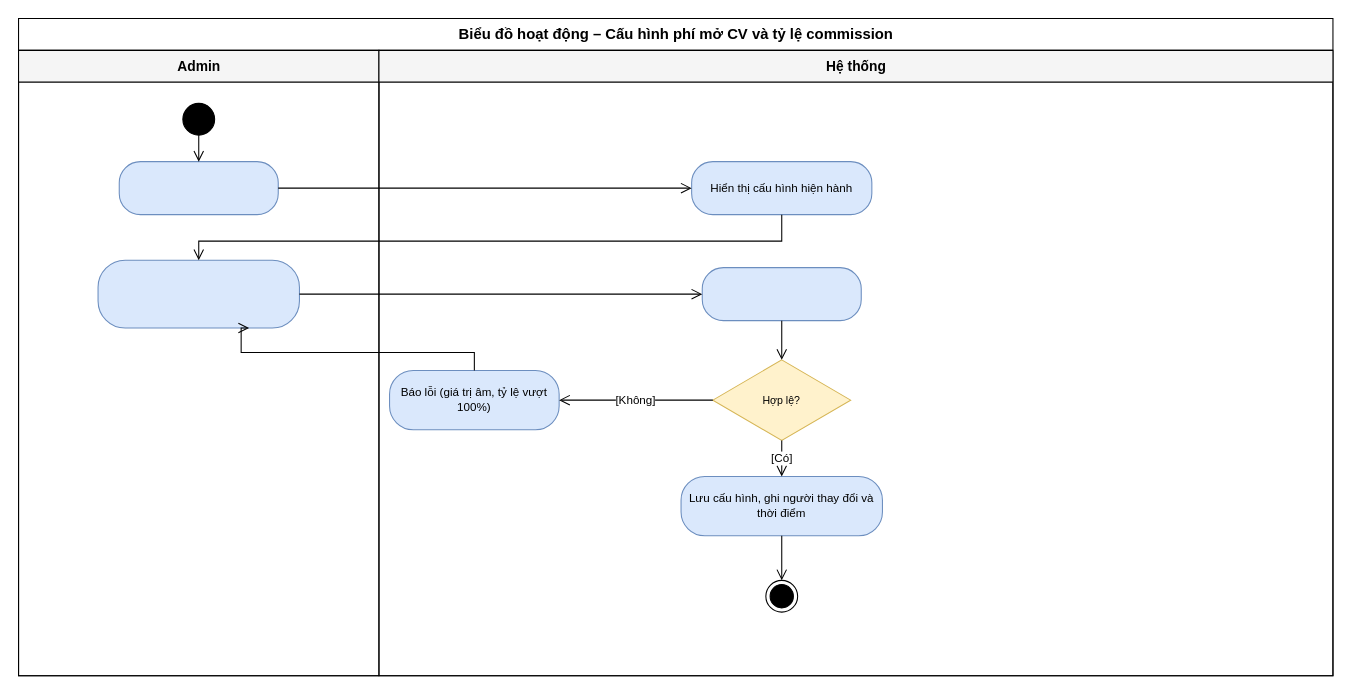
Image size: 1351x694. Some labels were removed from this diagram. Here are the shapes that lost their labels. From the top down, the centre of each, then its label:
(x=198, y=188): Mở trang cấu hình
(x=198, y=293): Nhập phí mở CV, số CV tối thiểu, tỷ lệ Source, Screener, Referral
(x=781, y=294): Kiểm tra dữ liệu hợp lệ
